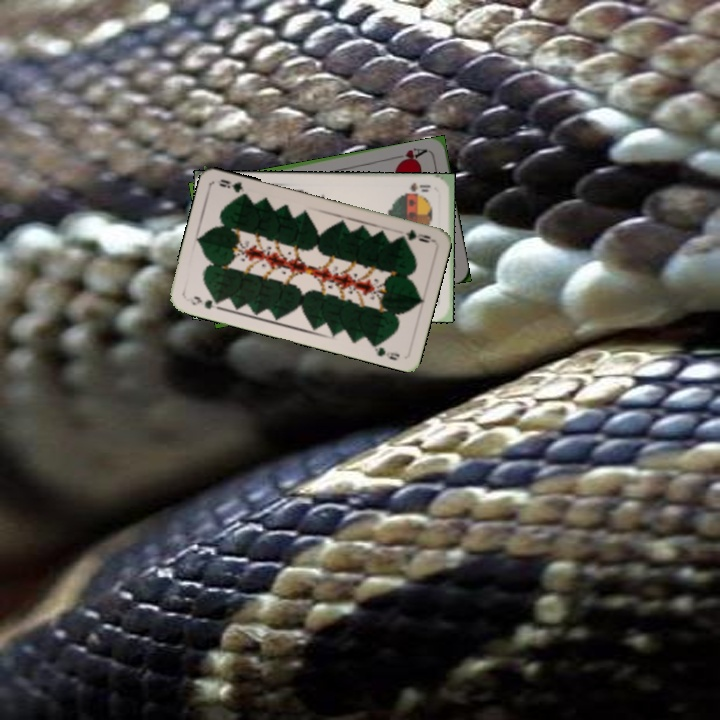G9: (182, 292, 224, 312), (395, 225, 436, 245)
HA: (390, 144, 430, 167)
SO: (401, 178, 433, 196)
